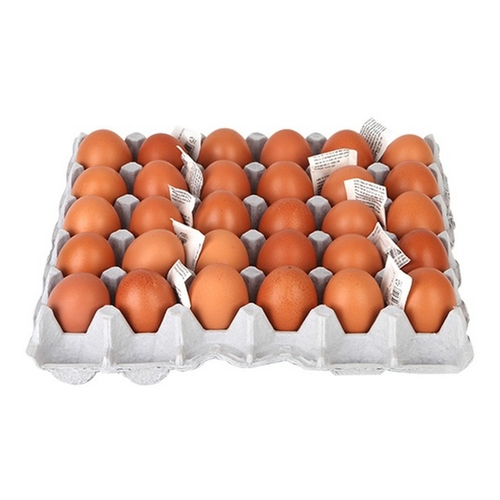egg: (50, 129, 462, 341)
